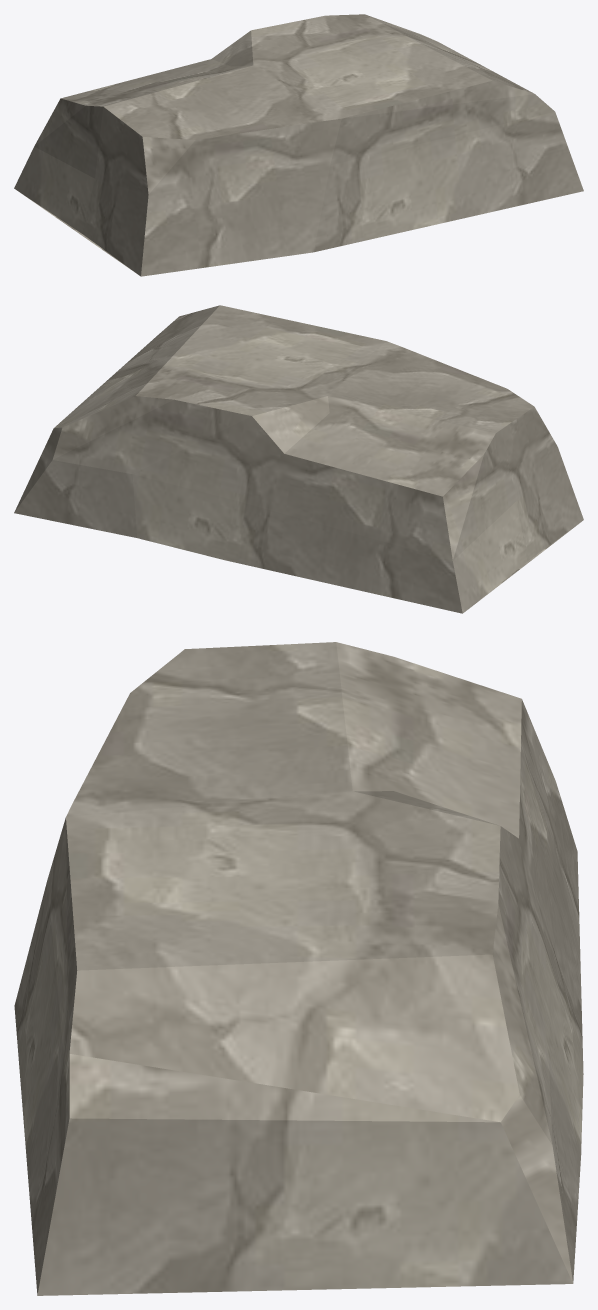
The model's file is gpebble_square_6.glb.
3 views of the same model, one above another, from view 1: azimuth 30°, elevation 25°; view 2: azimuth 150°, elevation 25°; view 3: azimuth 270°, elevation 25° (orthographic). The views are drawn at different scales.
Parts seen in each view (by area): view 1: model; view 2: model; view 3: model.
Part boxes in pixels (x1,y1,x2,y2): model: (14,14,583,276); model: (14,305,583,613); model: (14,642,583,1295).
Size of the model in its own units: 0.4873 by 0.1386 by 0.276.
1 material, 1 textured.
